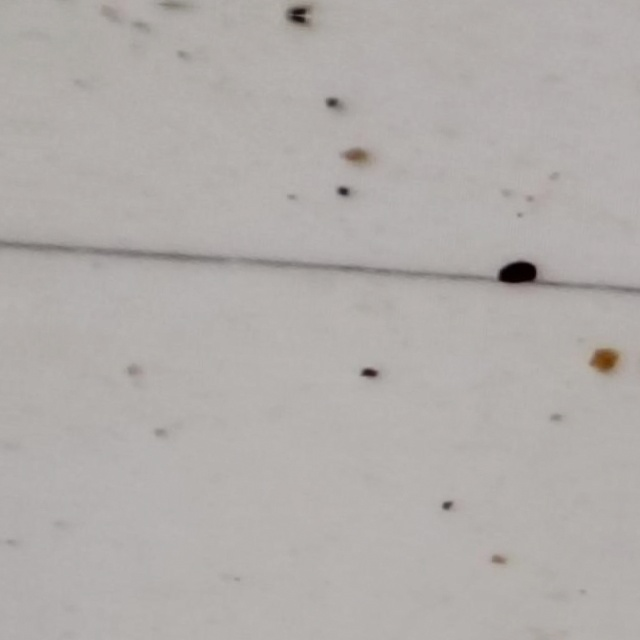varroa: (490, 257, 540, 290)
